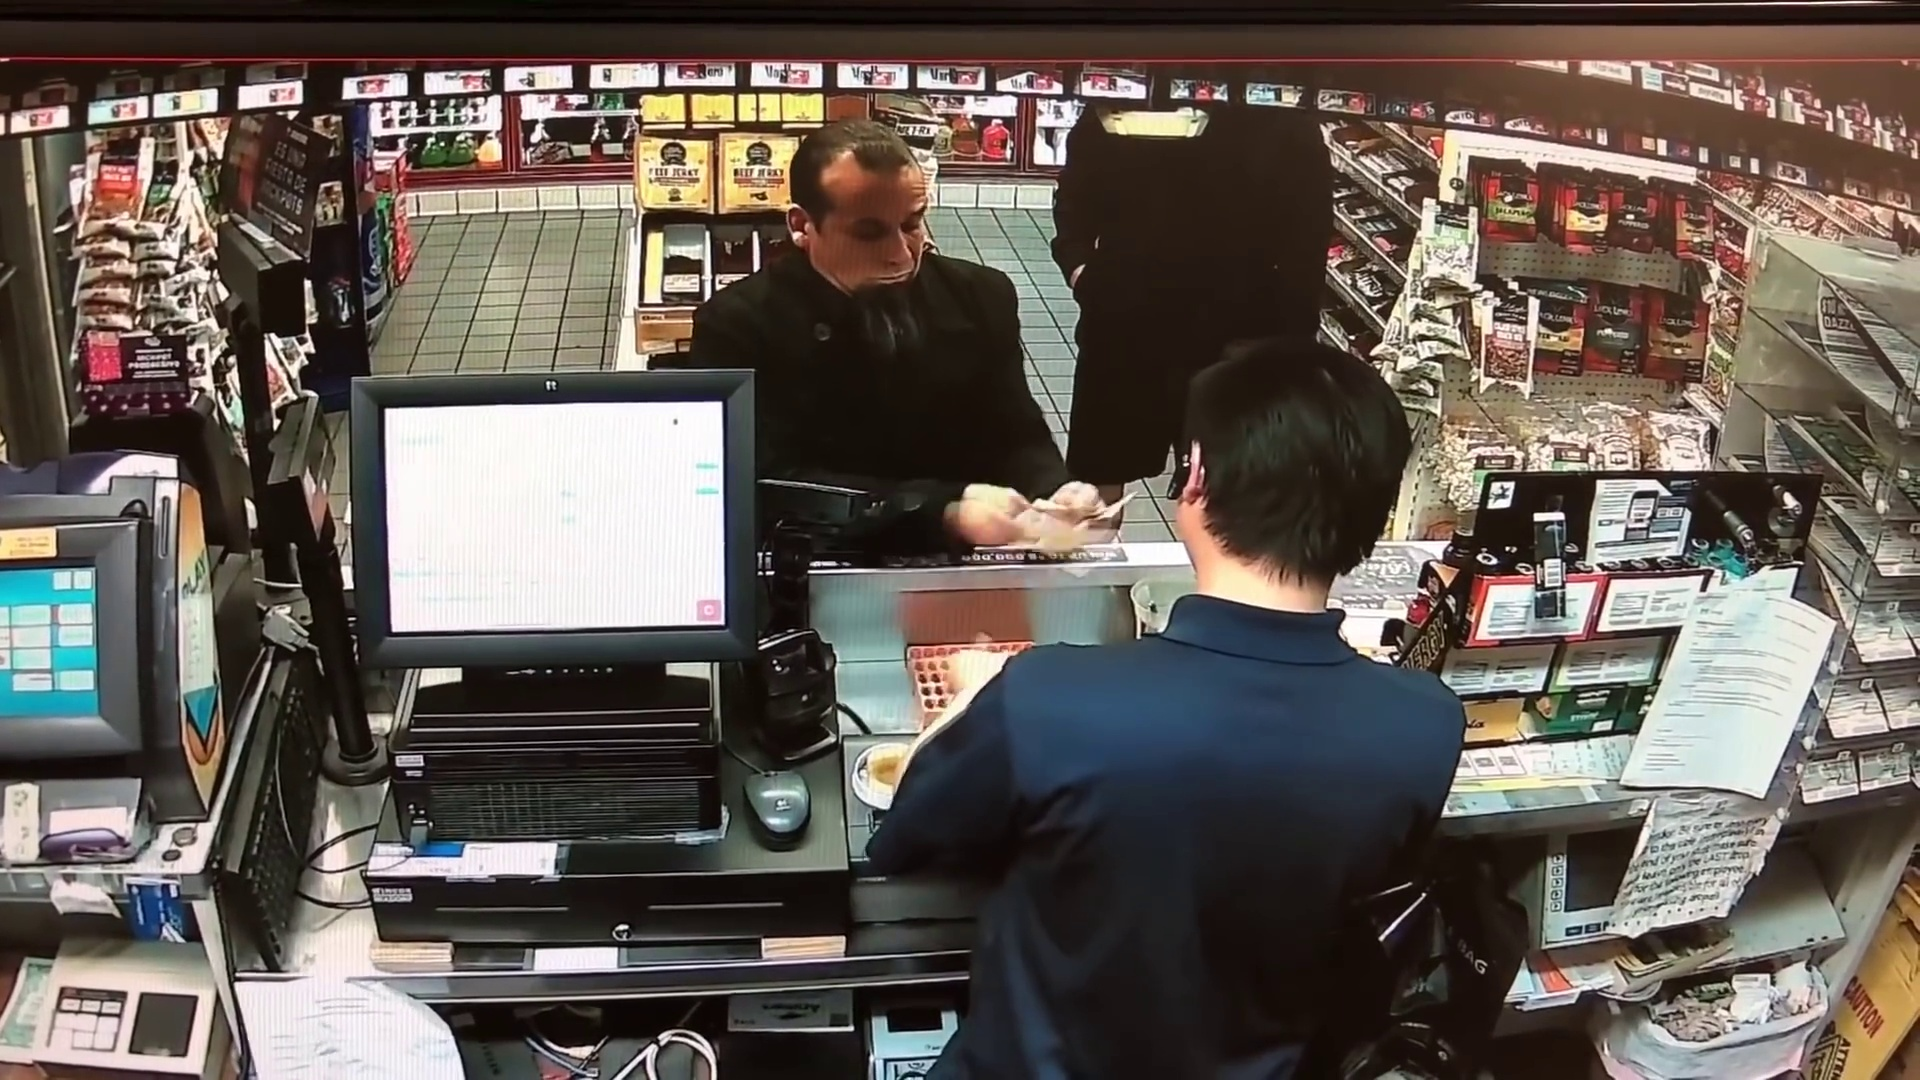face: (820, 169, 927, 292)
